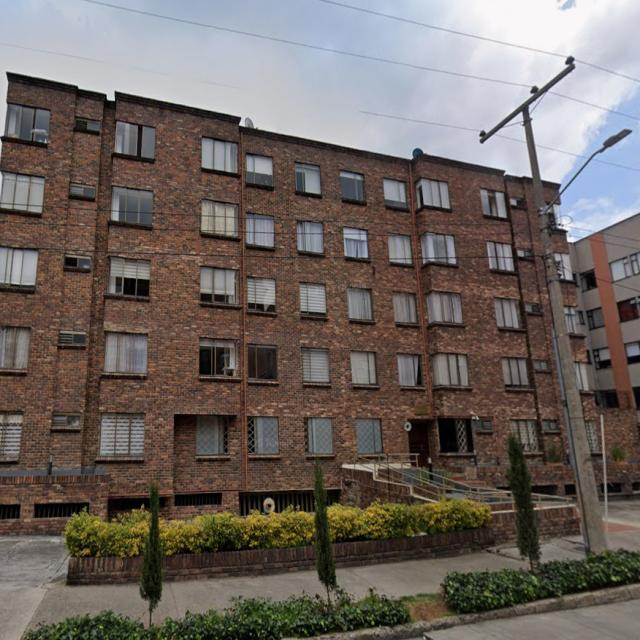fachada: (0, 74, 574, 531), (571, 215, 639, 413)
poste: (480, 59, 606, 552), (539, 215, 606, 552), (601, 414, 608, 543)
